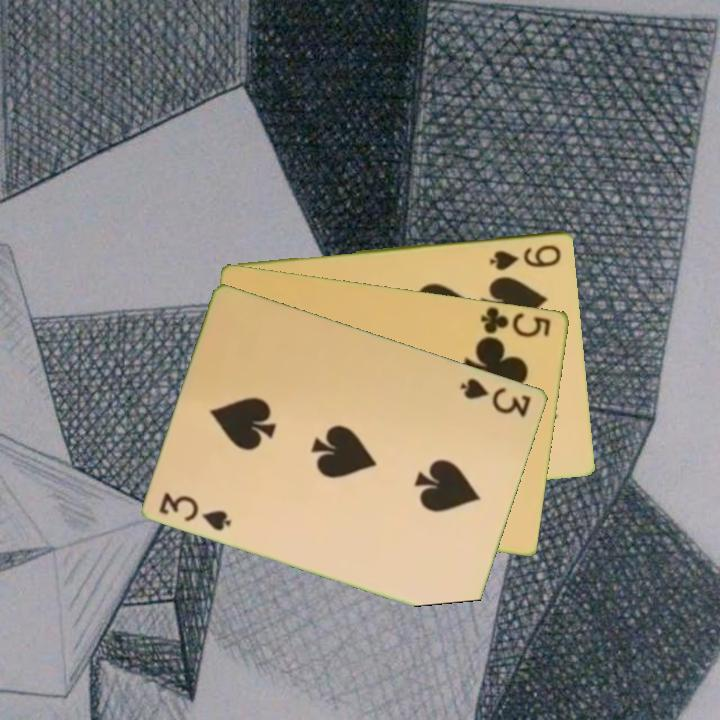3s: (457, 374, 535, 421), (156, 489, 235, 534)
5c: (477, 303, 554, 340)
9s: (486, 241, 565, 273)
